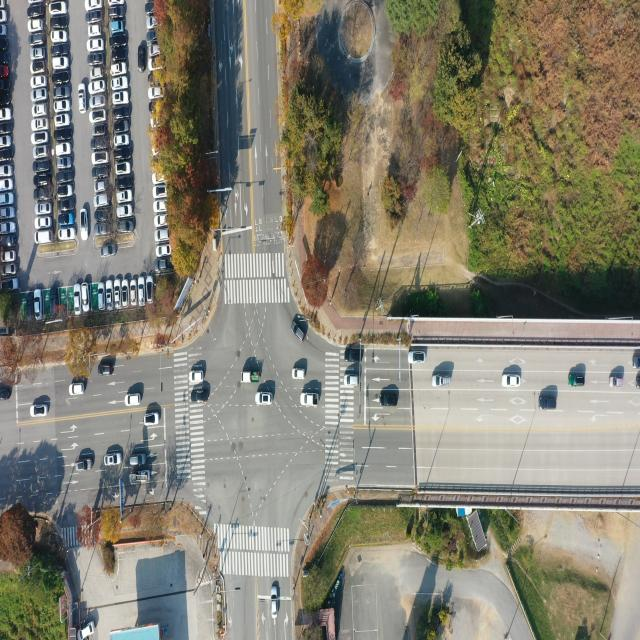car: (77, 619, 95, 640), (35, 228, 52, 245)
small_truck: (129, 470, 150, 485), (241, 372, 261, 385), (90, 66, 106, 80)
